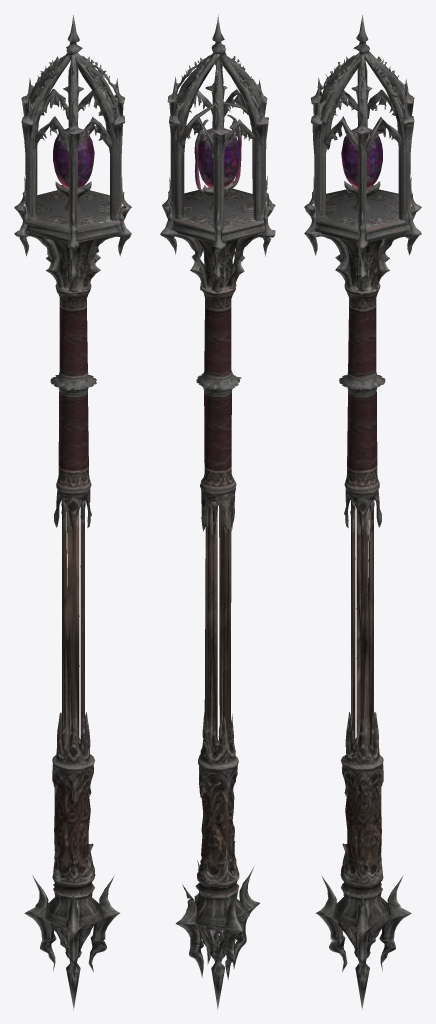
File: staff-bone.glb
3 views of the same model, side by side, from view 1: azimuth 90°, elevation 25°; view 2: azimuth 210°, elevation 25°; view 3: azimuth 270°, elevation 25° (orthographic).
Size of the model in its own units: 0.1152 by 0.9512 by 0.1021.
Materials: 1 (1 with a texture image).
